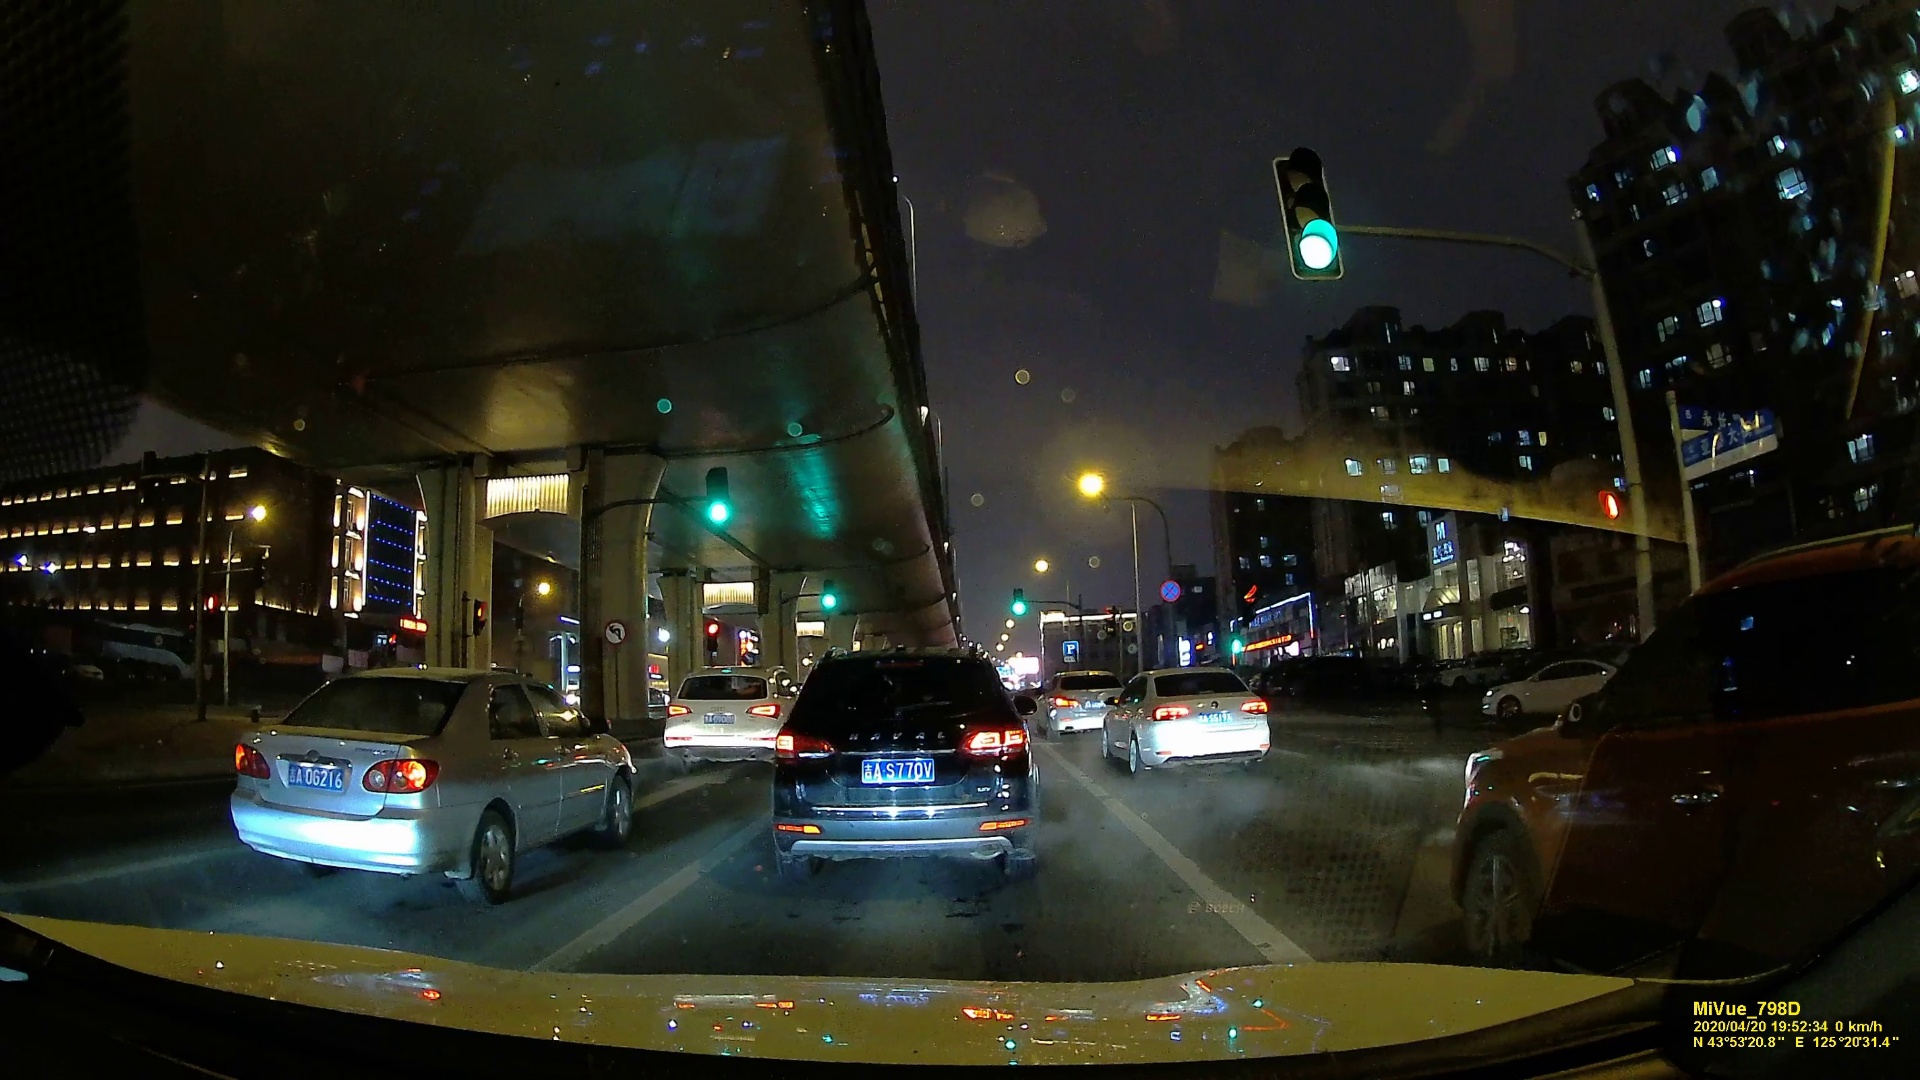traffic_sign: (1280, 144, 1353, 286), (1665, 414, 1785, 471), (1593, 484, 1635, 560), (702, 467, 729, 525), (1238, 582, 1259, 624), (603, 616, 628, 644), (819, 579, 837, 613), (1160, 578, 1179, 603), (1009, 588, 1025, 617), (1062, 641, 1081, 663)
vehicle: (1465, 527, 1913, 978), (220, 665, 650, 906), (769, 640, 1048, 886), (1101, 665, 1276, 771), (663, 665, 791, 769), (1480, 653, 1627, 727), (1040, 669, 1116, 736)
